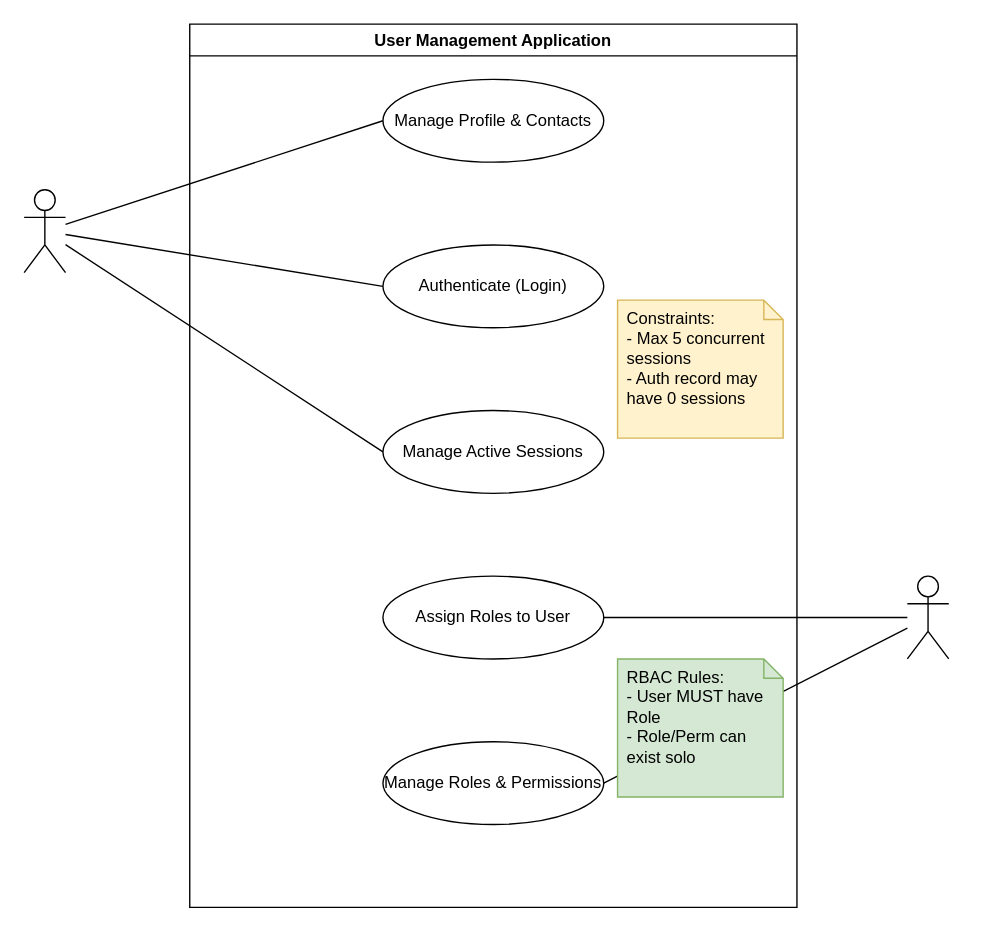
Image size: 1005x932. Some labels were removed from this diagram. Here are the shapes that lost their labels. From the top down, the centre of each, then its label:
the point at 44,230: User
the point at 927,617: System Admin
